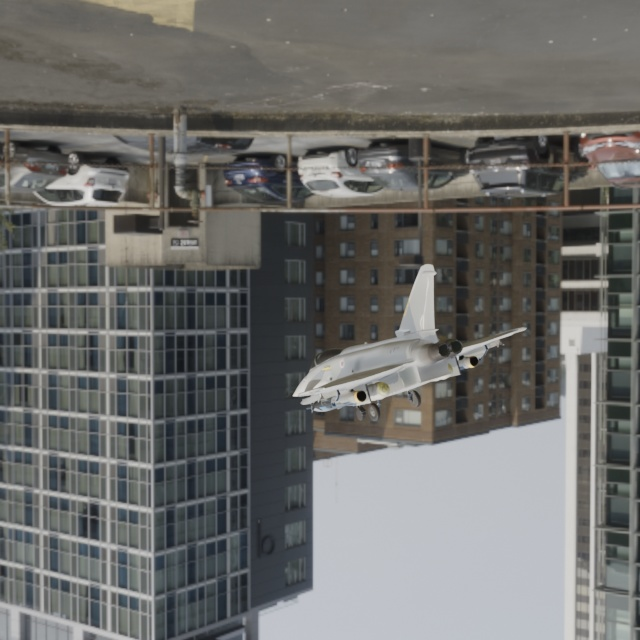eurofighter_typhoon_3d: (181, 236, 574, 460)
